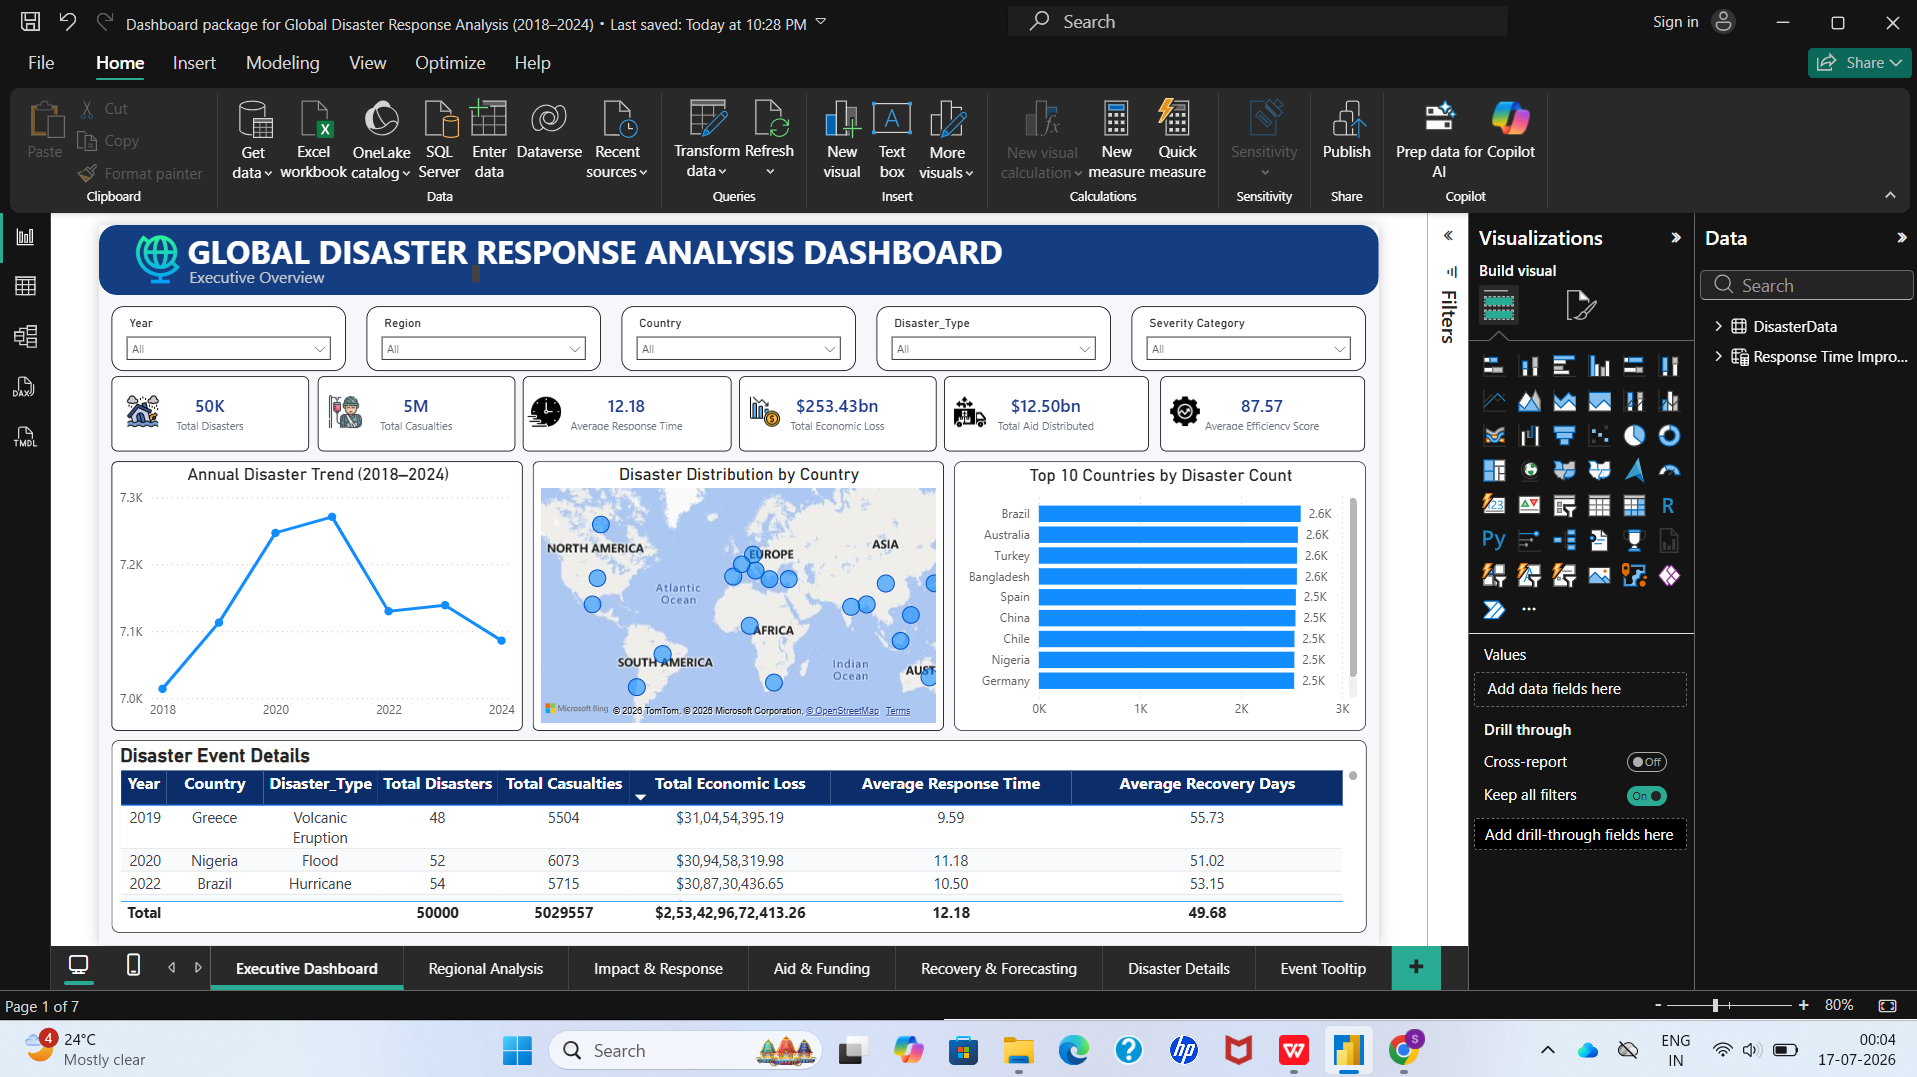

This screenshot's page, from the dashboard's own definition file:
{"tool":"powerbi","page":{"name":"Executive Dashboard","canvas":[1280,720],"ordinal":0},"visuals":[{"type":"cardVisual","fields":{"Data":["DisasterData.Total Disasters"]},"box":[12.3,150.9,197.5,74.8],"z":0},{"type":"cardVisual","fields":{"Data":["DisasterData.Total Casualties"]},"box":[218.4,150.9,197.5,74.8],"z":1000},{"type":"cardVisual","fields":{"Data":["DisasterData.Total Aid Distributed"]},"box":[845.4,150.9,204.9,74.8],"z":2000},{"type":"cardVisual","fields":{"Data":["DisasterData.Average Response Time"]},"box":[423.3,150.9,208.6,74.8],"z":3000},{"type":"slicer","fields":{"Values":["DisasterData.date.Variation.Date Hierarchy.Year"]},"box":[12.3,81,234.4,65],"z":4000},{"type":"slicer","fields":{"Values":["DisasterData.country"]},"box":[522.7,81,234.4,65],"z":5000},{"type":"slicer","fields":{"Values":["DisasterData.disaster_type"]},"box":[777.9,81,234.4,65],"z":6000},{"type":"map","title":"Disaster Distribution by Country","fields":{"Size":["DisasterData.Total Disasters"],"Category":["DisasterData.country"]},"box":[434.4,236.8,411,269.9],"z":7000},{"type":"tableEx","title":"Disaster Event Details","fields":{"Values":["DisasterData.date.Variation.Date Hierarchy.Year","DisasterData.country","DisasterData.disaster_type","DisasterData.Total Disasters","DisasterData.Total Casualties","DisasterData.Total Economic Loss","DisasterData.Average Response Time","DisasterData.Average Recovery Days"]},"box":[12.3,515.3,1255.2,192.6],"z":8000},{"type":"cardVisual","fields":{"Data":["DisasterData.Total Economic Loss"]},"box":[640.5,150.9,197.5,74.8],"z":9000},{"type":"cardVisual","fields":{"Data":["DisasterData.Average Efficiency Score"]},"box":[1061.4,150.9,204.9,74.8],"z":10000},{"type":"slicer","fields":{"Values":["DisasterData.Region"]},"box":[267.5,81,234.4,65],"z":11000},{"type":"slicer","fields":{"Values":["DisasterData.Severity Category"]},"box":[1031.9,81,234.4,65],"z":12000},{"type":"shape","box":[0,0,1279.8,70],"z":13000},{"type":"image","box":[35.6,0,47.9,68.7],"z":14000},{"type":"textbox","box":[83.4,0,987.7,58.9],"z":15000},{"type":"textbox","box":[84.7,35.6,300.6,29.4],"z":16000},{"type":"image","box":[27,168.1,33.1,38],"z":17000},{"type":"image","box":[228.2,168.1,35.6,38],"z":18000},{"type":"image","box":[423.3,168.1,42.9,38],"z":19000},{"type":"image","box":[650.3,168.1,31.9,38],"z":20000},{"type":"image","box":[855.2,168.1,31.9,38],"z":21000},{"type":"image","box":[1071.2,168.1,29.4,38],"z":22000},{"type":"lineChart","title":"Annual Disaster Trend (2018–2024)","fields":{"Category":["DisasterData.date.Variation.Date Hierarchy.Year"],"Y":["DisasterData.Total Disasters"]},"box":[12.3,236.8,411,269.9],"z":23000},{"type":"clusteredBarChart","title":"Top 10 Countries by Disaster Count","fields":{"Y":["DisasterData.Total Disasters"],"Category":["DisasterData.country"]},"box":[855.2,236.8,412.3,269.9],"z":24000}]}

Visuals, with their boxes on the page's 1280x720 design canvas (x1, y1, x2, y2). These are canvas units, not pixel positions in the 1917x1077 screenshot, which may show the page scaled, cropped or inside an application window:
cardVisual - DisasterData.Total Disasters: x1=12, y1=151, x2=210, y2=226
cardVisual - DisasterData.Total Casualties: x1=218, y1=151, x2=416, y2=226
cardVisual - DisasterData.Total Aid Distributed: x1=845, y1=151, x2=1050, y2=226
cardVisual - DisasterData.Average Response Time: x1=423, y1=151, x2=632, y2=226
slicer - DisasterData.date.Variation.Date Hierarchy.Year: x1=12, y1=81, x2=247, y2=146
slicer - DisasterData.country: x1=523, y1=81, x2=757, y2=146
slicer - DisasterData.disaster_type: x1=778, y1=81, x2=1012, y2=146
"Disaster Distribution by Country" map: x1=434, y1=237, x2=845, y2=507
"Disaster Event Details" tableEx: x1=12, y1=515, x2=1268, y2=708
cardVisual - DisasterData.Total Economic Loss: x1=640, y1=151, x2=838, y2=226
cardVisual - DisasterData.Average Efficiency Score: x1=1061, y1=151, x2=1266, y2=226
slicer - DisasterData.Region: x1=268, y1=81, x2=502, y2=146
slicer - DisasterData.Severity Category: x1=1032, y1=81, x2=1266, y2=146
shape: x1=0, y1=0, x2=1280, y2=70
image: x1=36, y1=0, x2=84, y2=69
textbox: x1=83, y1=0, x2=1071, y2=59
textbox: x1=85, y1=36, x2=385, y2=65
image: x1=27, y1=168, x2=60, y2=206
image: x1=228, y1=168, x2=264, y2=206
image: x1=423, y1=168, x2=466, y2=206
image: x1=650, y1=168, x2=682, y2=206
image: x1=855, y1=168, x2=887, y2=206
image: x1=1071, y1=168, x2=1101, y2=206
"Annual Disaster Trend (2018–2024)" lineChart: x1=12, y1=237, x2=423, y2=507
"Top 10 Countries by Disaster Count" clusteredBarChart: x1=855, y1=237, x2=1268, y2=507
